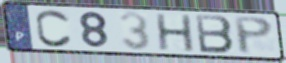3: (120, 10, 151, 53)
8: (78, 10, 111, 50)
B: (194, 13, 237, 56)
C: (34, 8, 74, 49)
H: (154, 13, 197, 53)
P: (232, 15, 276, 56)
